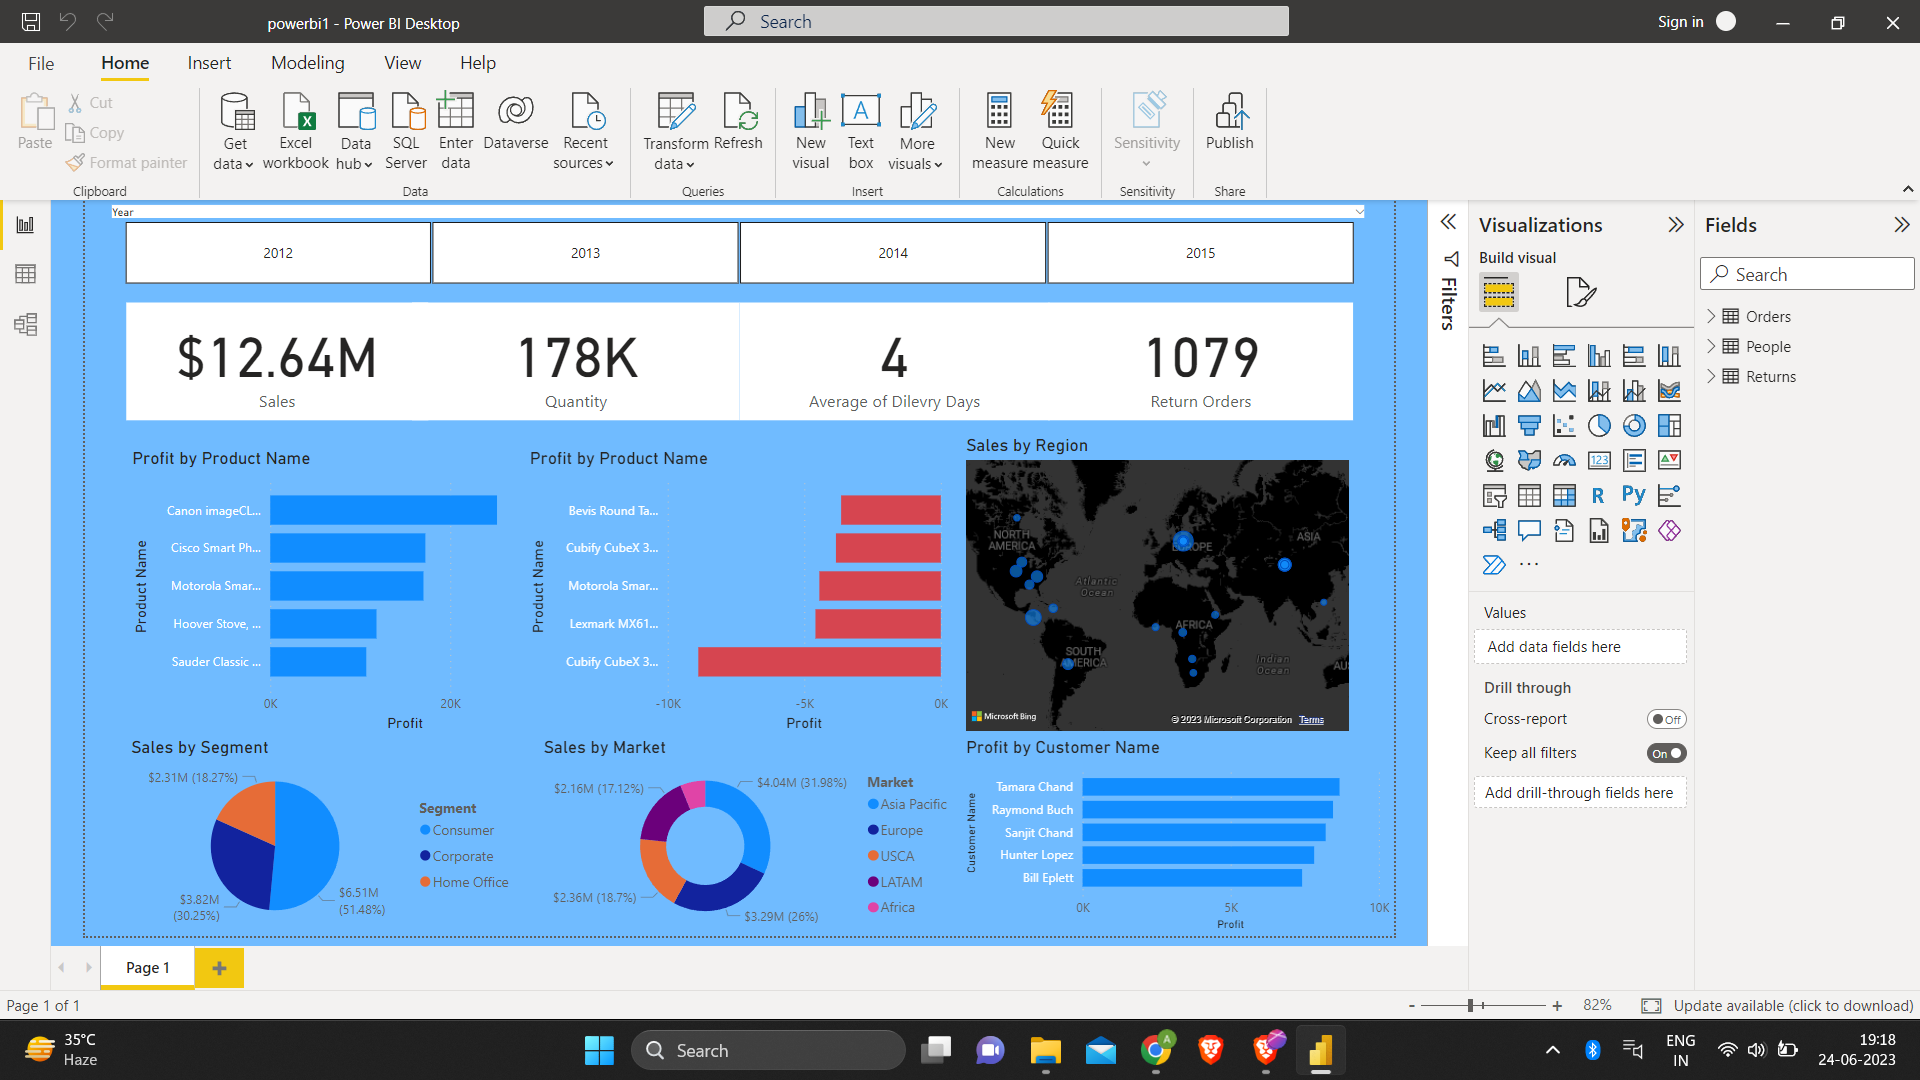

The dashboard page shown, as its layout file describes it:
{"tool":"powerbi","page":{"name":"Page 1","canvas":[1280,720],"ordinal":0},"visuals":[{"type":"card","fields":{"Values":["Orders.Sales"]},"box":[40.7,100.1,295.6,115.2],"z":0},{"type":"card","fields":{"Values":["Orders.Quantity"]},"box":[320,100.1,320,115.2],"z":1000},{"type":"card","fields":{"Values":["Orders.Dilevry Days"]},"box":[640,100.1,302.5,115.2],"z":2000},{"type":"slicer","fields":{"Values":["Orders.Year"]},"box":[14,0,1250.9,88.4],"z":3000},{"type":"card","fields":{"Values":["Returns.Return Orders"]},"box":[942.5,100.1,297.9,115.2],"z":4000},{"type":"map","fields":{"Category":["Orders.Region"],"Size":["Orders.Sales"]},"box":[856.4,230.4,384,294.4],"z":5000},{"type":"clusteredBarChart","fields":{"Category":["Orders.Product Name"],"Y":["Orders.Profit"]},"box":[41.2,241.7,418.9,282.9],"z":6000},{"type":"clusteredBarChart","fields":{"Category":["Orders.Product Name"],"Y":["Orders.Profit"]},"box":[429.9,241.7,418.9,282.9],"z":7000},{"type":"pieChart","fields":{"Y":["Orders.Sales"],"Category":["Orders.Segment"]},"box":[40.7,524.8,388.7,195.5],"z":8000},{"type":"donutChart","fields":{"Y":["Orders.Sales"],"Category":["Orders.Market"]},"box":[443.3,524.8,413.1,195.5],"z":9000},{"type":"clusteredBarChart","fields":{"Y":["Orders.Profit"],"Category":["Orders.Customer Name"]},"box":[856.4,524.8,423.6,195.5],"z":11000}]}

Visuals, with their boxes on the page's 1280x720 design canvas (x1, y1, x2, y2). These are canvas units, not pixel positions in the 1920x1080 screenshot, which may show the page scaled, cropped or inside an application window:
card - Orders.Sales: (x1=41, y1=100, x2=336, y2=215)
card - Orders.Quantity: (x1=320, y1=100, x2=640, y2=215)
card - Orders.Dilevry Days: (x1=640, y1=100, x2=942, y2=215)
slicer - Orders.Year: (x1=14, y1=0, x2=1265, y2=88)
card - Returns.Return Orders: (x1=942, y1=100, x2=1240, y2=215)
map - Orders.Region x Orders.Sales: (x1=856, y1=230, x2=1240, y2=525)
clusteredBarChart - Orders.Product Name x Orders.Profit: (x1=41, y1=242, x2=460, y2=525)
clusteredBarChart - Orders.Product Name x Orders.Profit: (x1=430, y1=242, x2=849, y2=525)
pieChart - Orders.Sales x Orders.Segment: (x1=41, y1=525, x2=429, y2=720)
donutChart - Orders.Sales x Orders.Market: (x1=443, y1=525, x2=856, y2=720)
clusteredBarChart - Orders.Profit x Orders.Customer Name: (x1=856, y1=525, x2=1280, y2=720)
